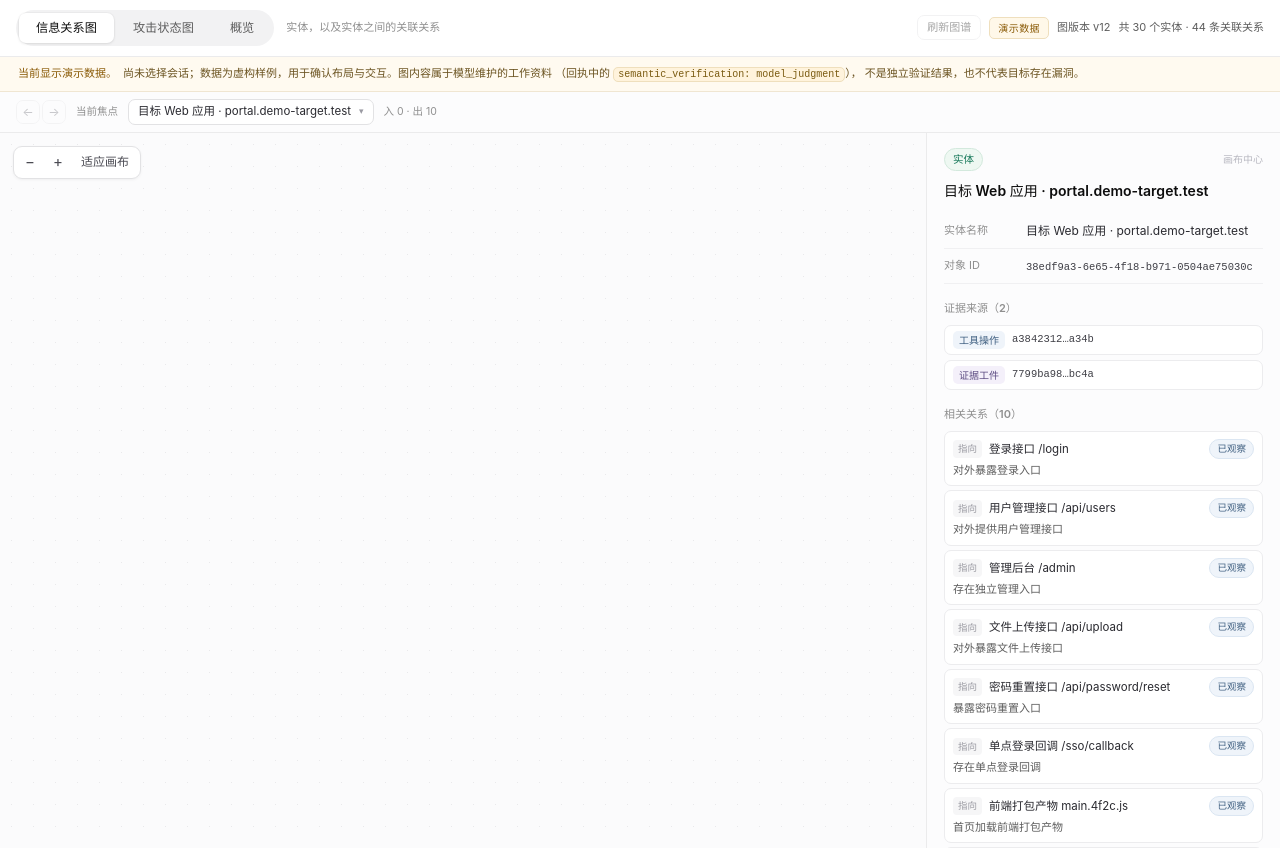
Test: 浏览历史：Alt + 方向键与按钮等效
Click the button with class "gpicker-btn" at (251, 112), box [128,99,374,125]
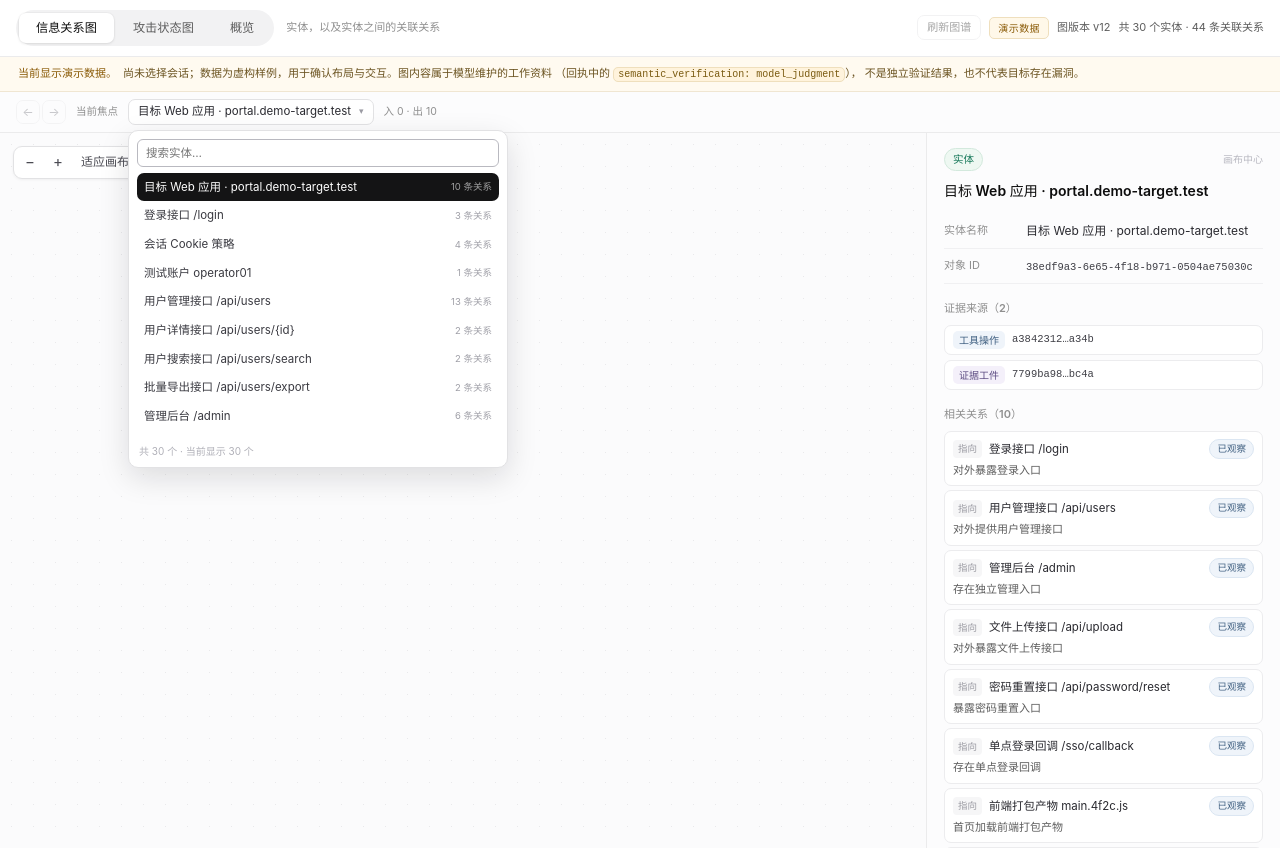
Check: the dialog with class "gpicker-pop" is shown, box [128,130,508,468]
Check: the button with class "gpicker-item" showing "登录接口 /login 3 条关系" is shown
Click the button with class "gpicker-item" showing "登录接口 /login 3 条关系" at (184, 215), box [137,201,499,230]
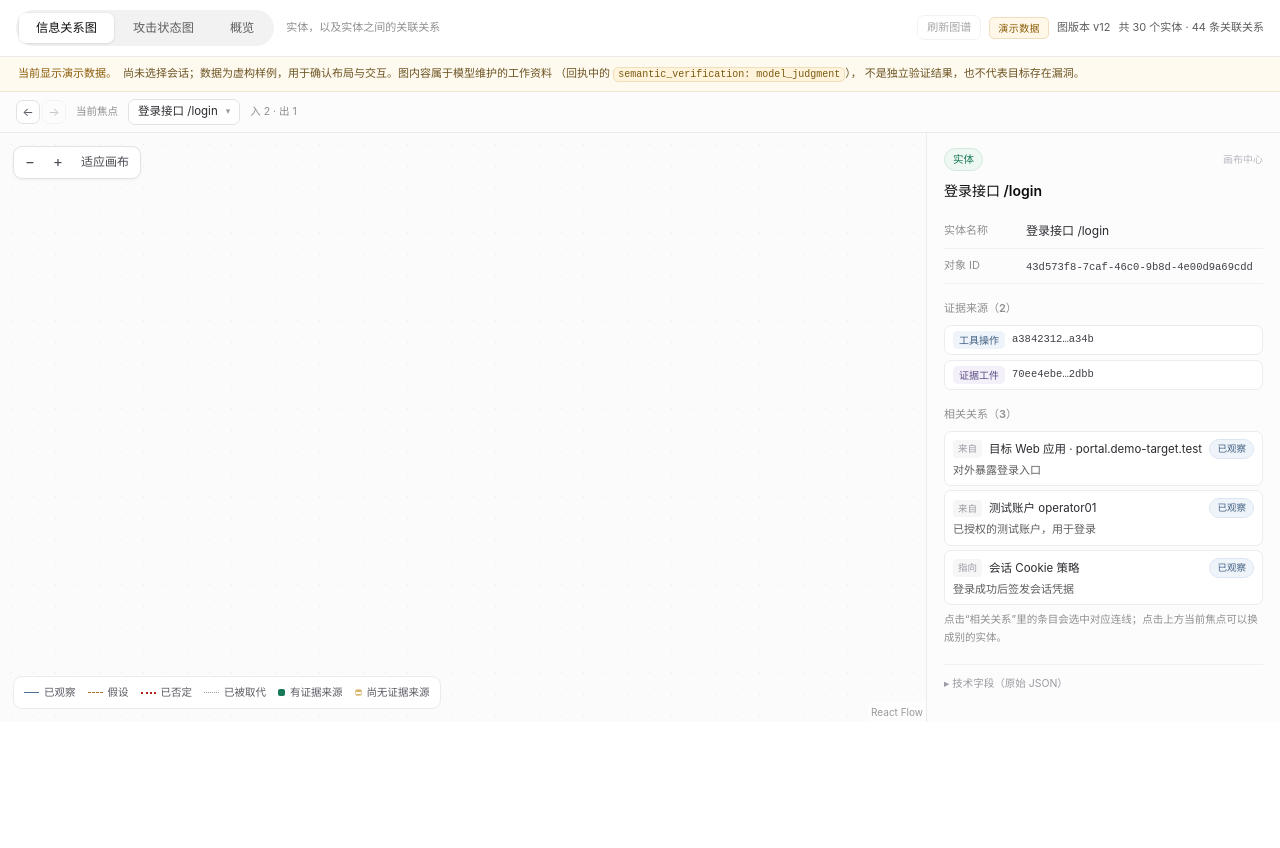
Press ArrowLeft
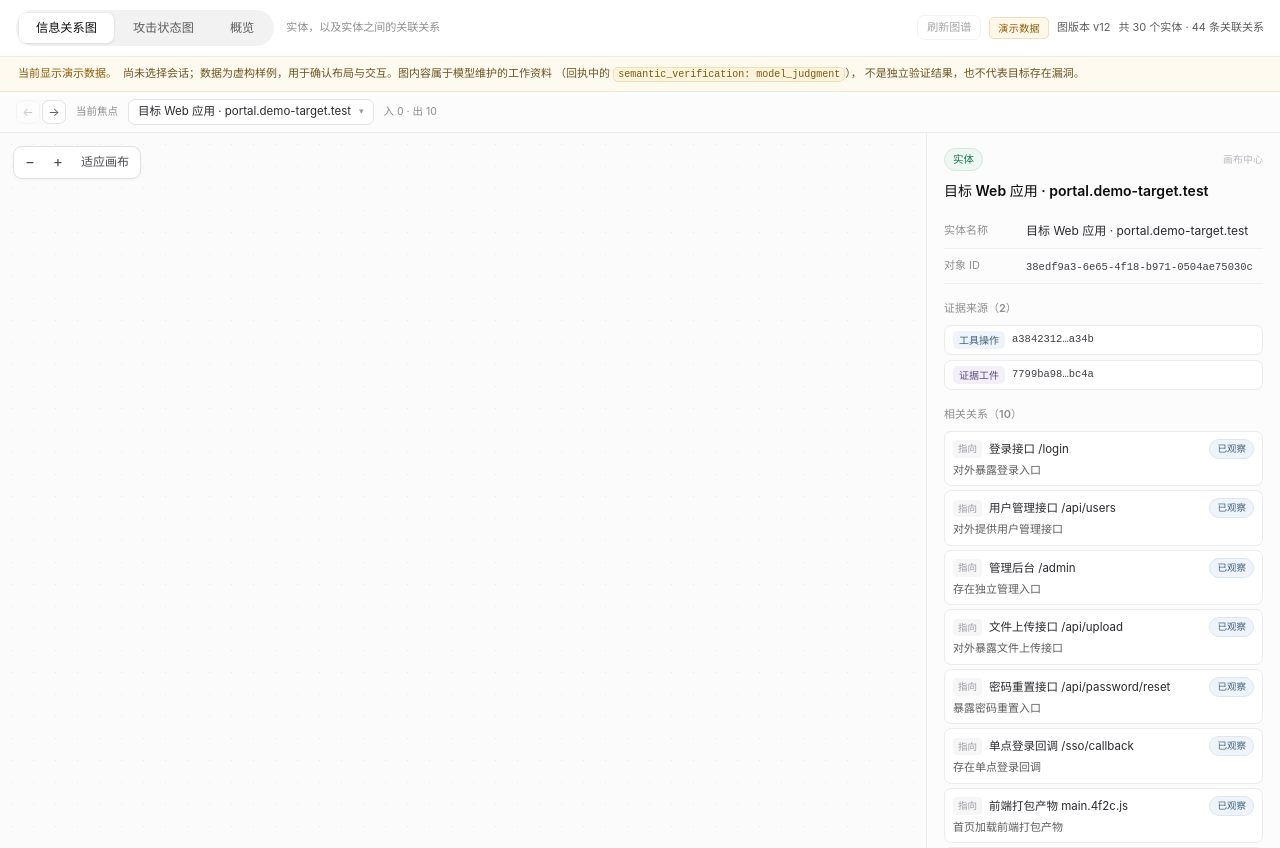
Check: the button with class "gpicker-btn" shows "目标 Web 应用 · portal.demo-target.test", box [128,99,374,125]
Press ArrowRight
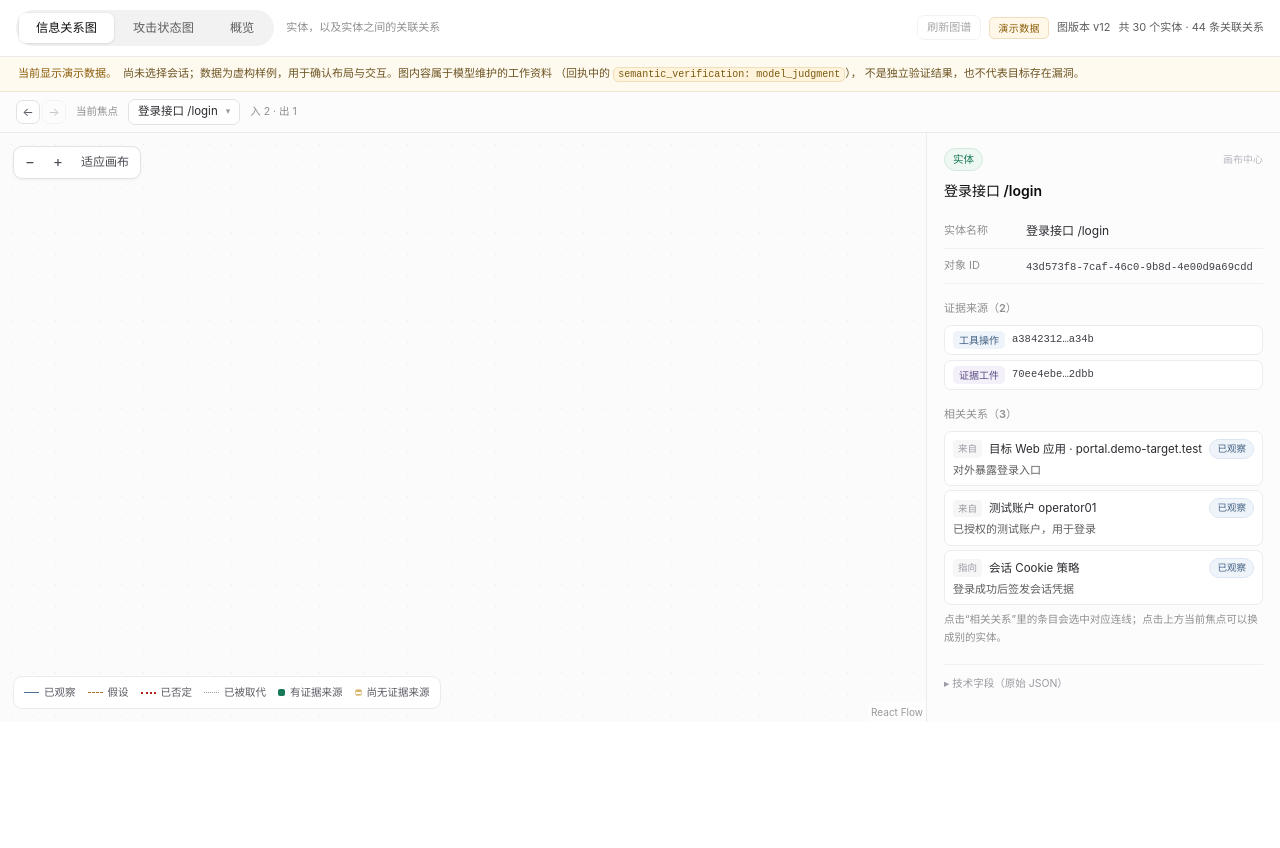
Check: the button with class "gpicker-btn" shows "登录接口", box [128,99,240,125]
